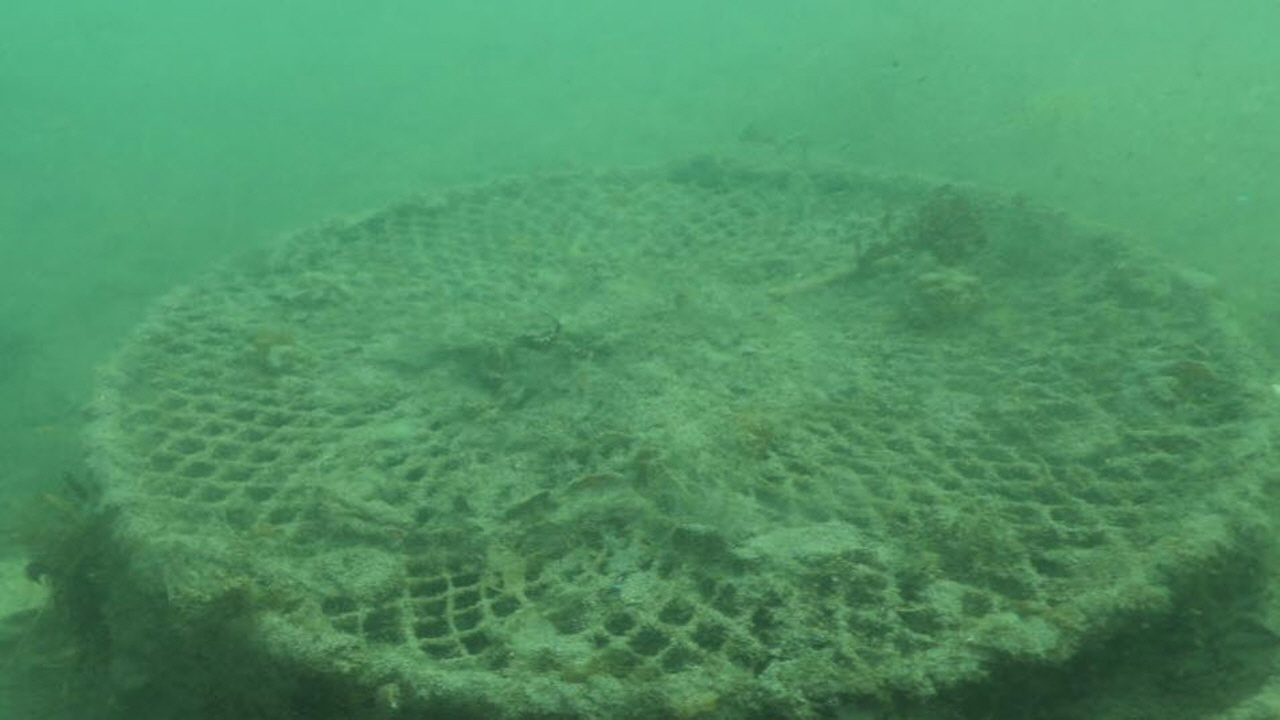circular fish trap: (89, 154, 1280, 720)
